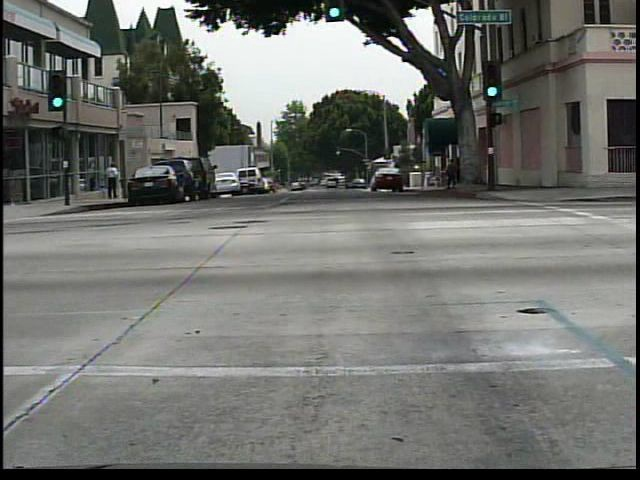person: (106, 154, 124, 201), (440, 158, 459, 191), (454, 150, 455, 194)
